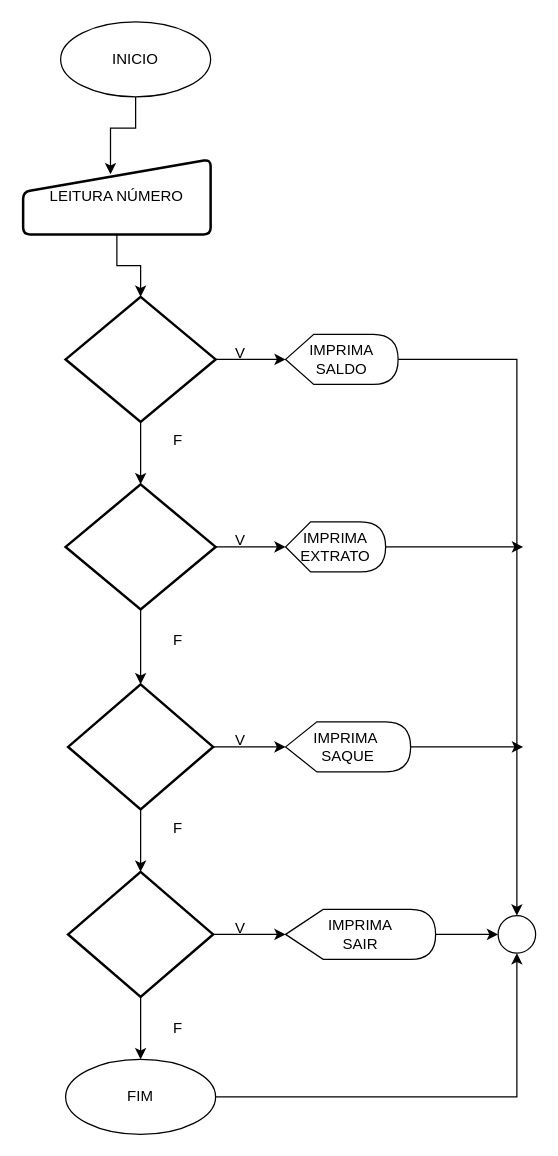
Some shapes in this 558 by 1156 pixel diagram are drawn without their labels. The centre of each missing label's shape, as x and y in pixels:
"SE LETRA==4" belongs at (140,934).
"SE NÚMERO ==1" belongs at (140,358).
"SE NÚMERO==2" belongs at (140,546).
"SE NÚMERO==3" belongs at (140,746).
